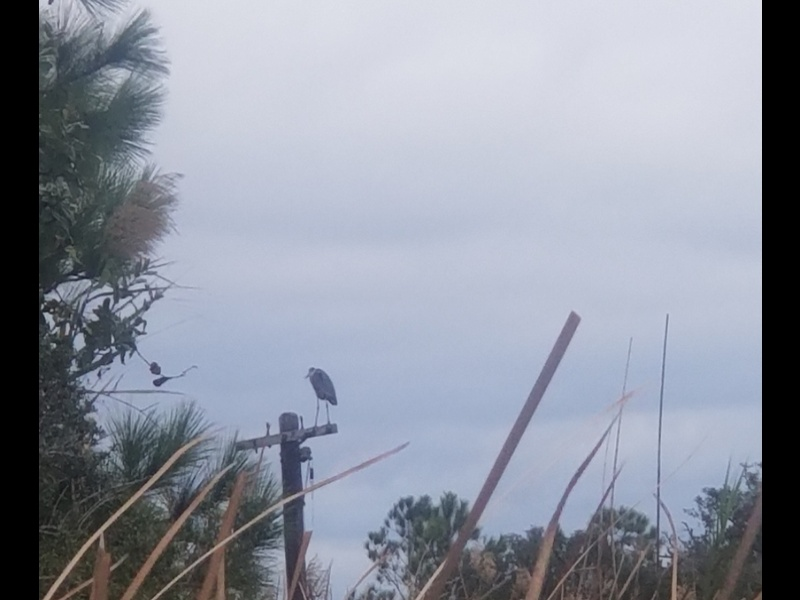heron: (305, 363, 339, 429)
